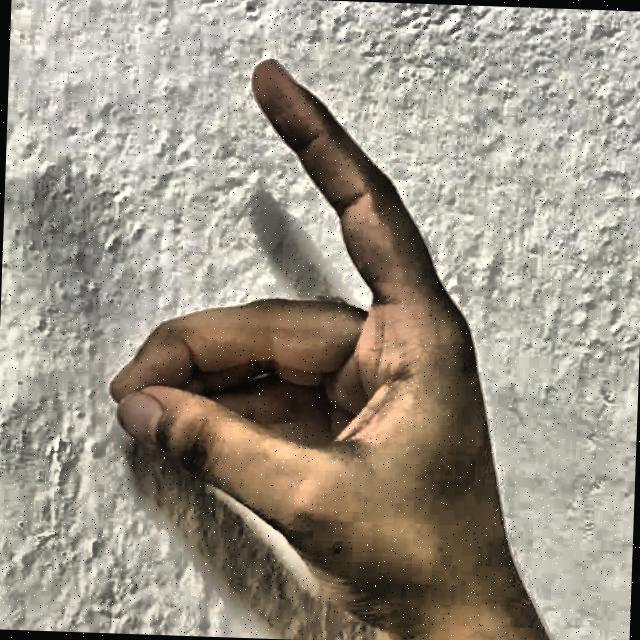Dha: (71, 38, 565, 640)
